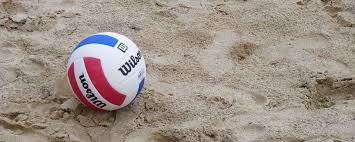ball: (66, 32, 147, 112)
